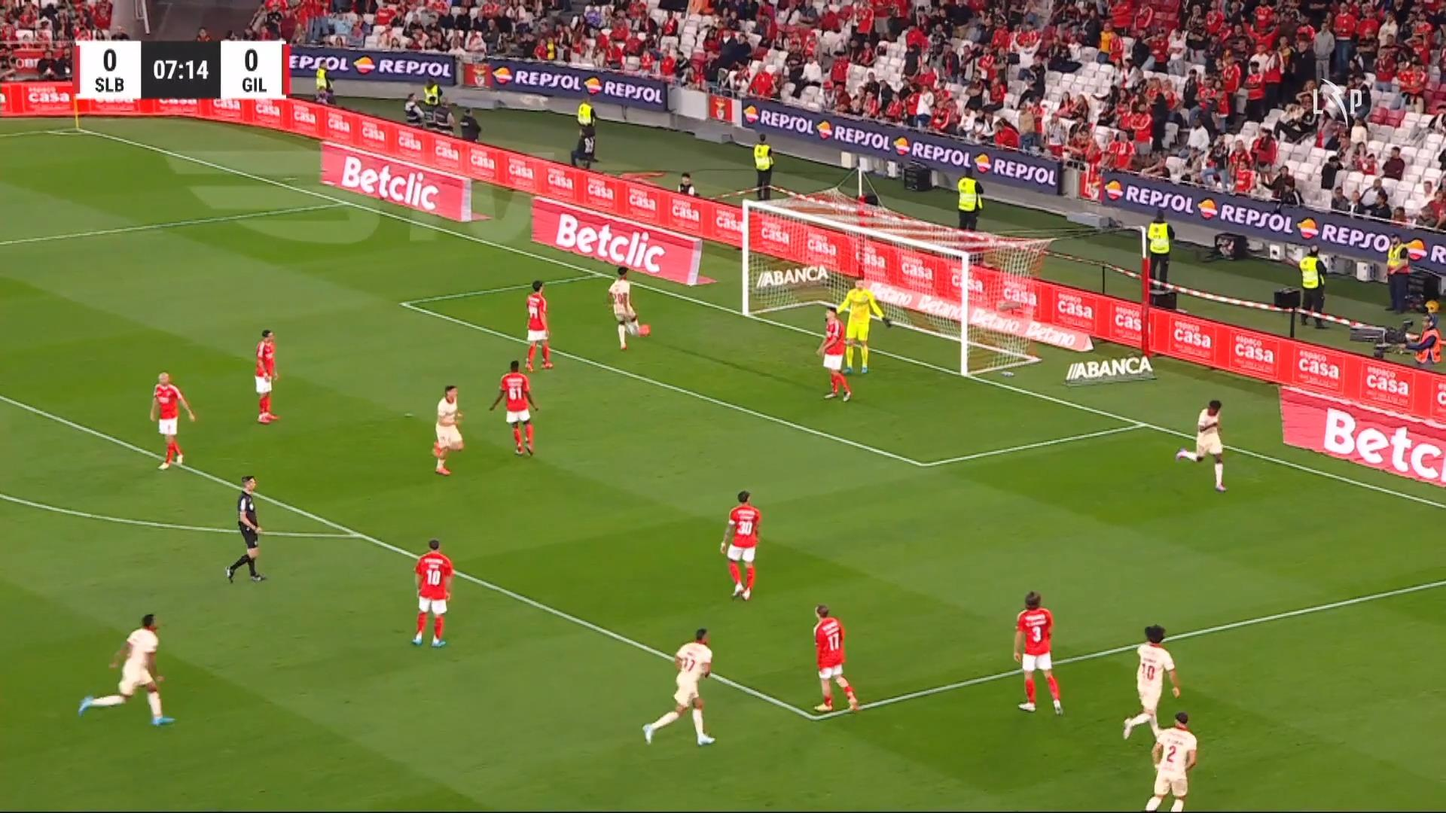goalkeeper: (836, 276, 892, 374)
player: (77, 612, 175, 726), (641, 626, 715, 746), (1121, 623, 1180, 741), (1012, 590, 1063, 715), (1144, 711, 1197, 811), (811, 604, 860, 712), (1175, 398, 1228, 492), (488, 359, 539, 456), (410, 538, 454, 647), (719, 489, 761, 601), (149, 370, 195, 470), (815, 305, 853, 402), (431, 385, 464, 475), (608, 265, 642, 350), (523, 279, 553, 372), (254, 328, 280, 424)
referee: (224, 474, 268, 583)
